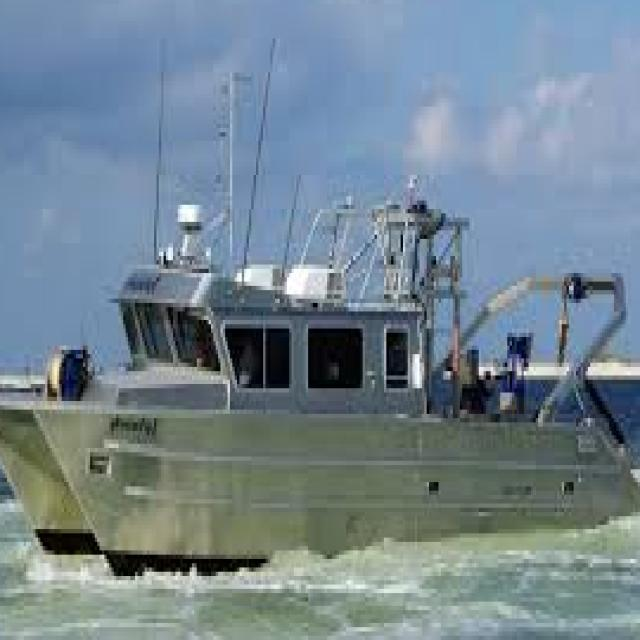houseboat: (0, 111, 640, 584)
